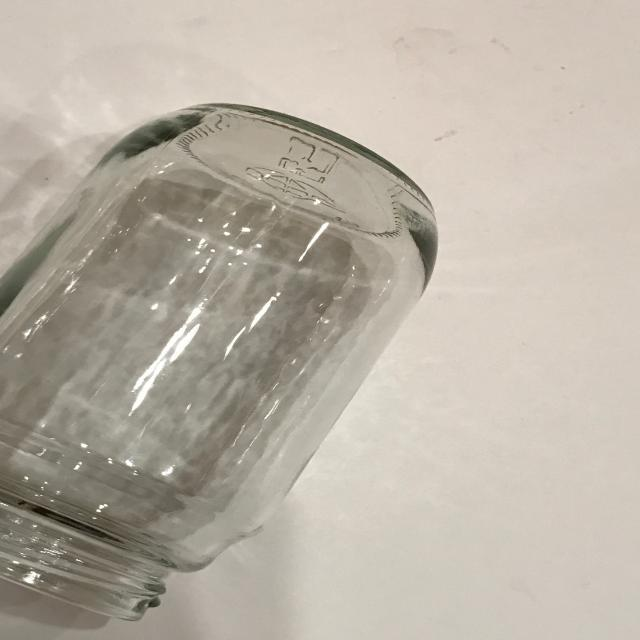glass: (2, 104, 440, 640)
